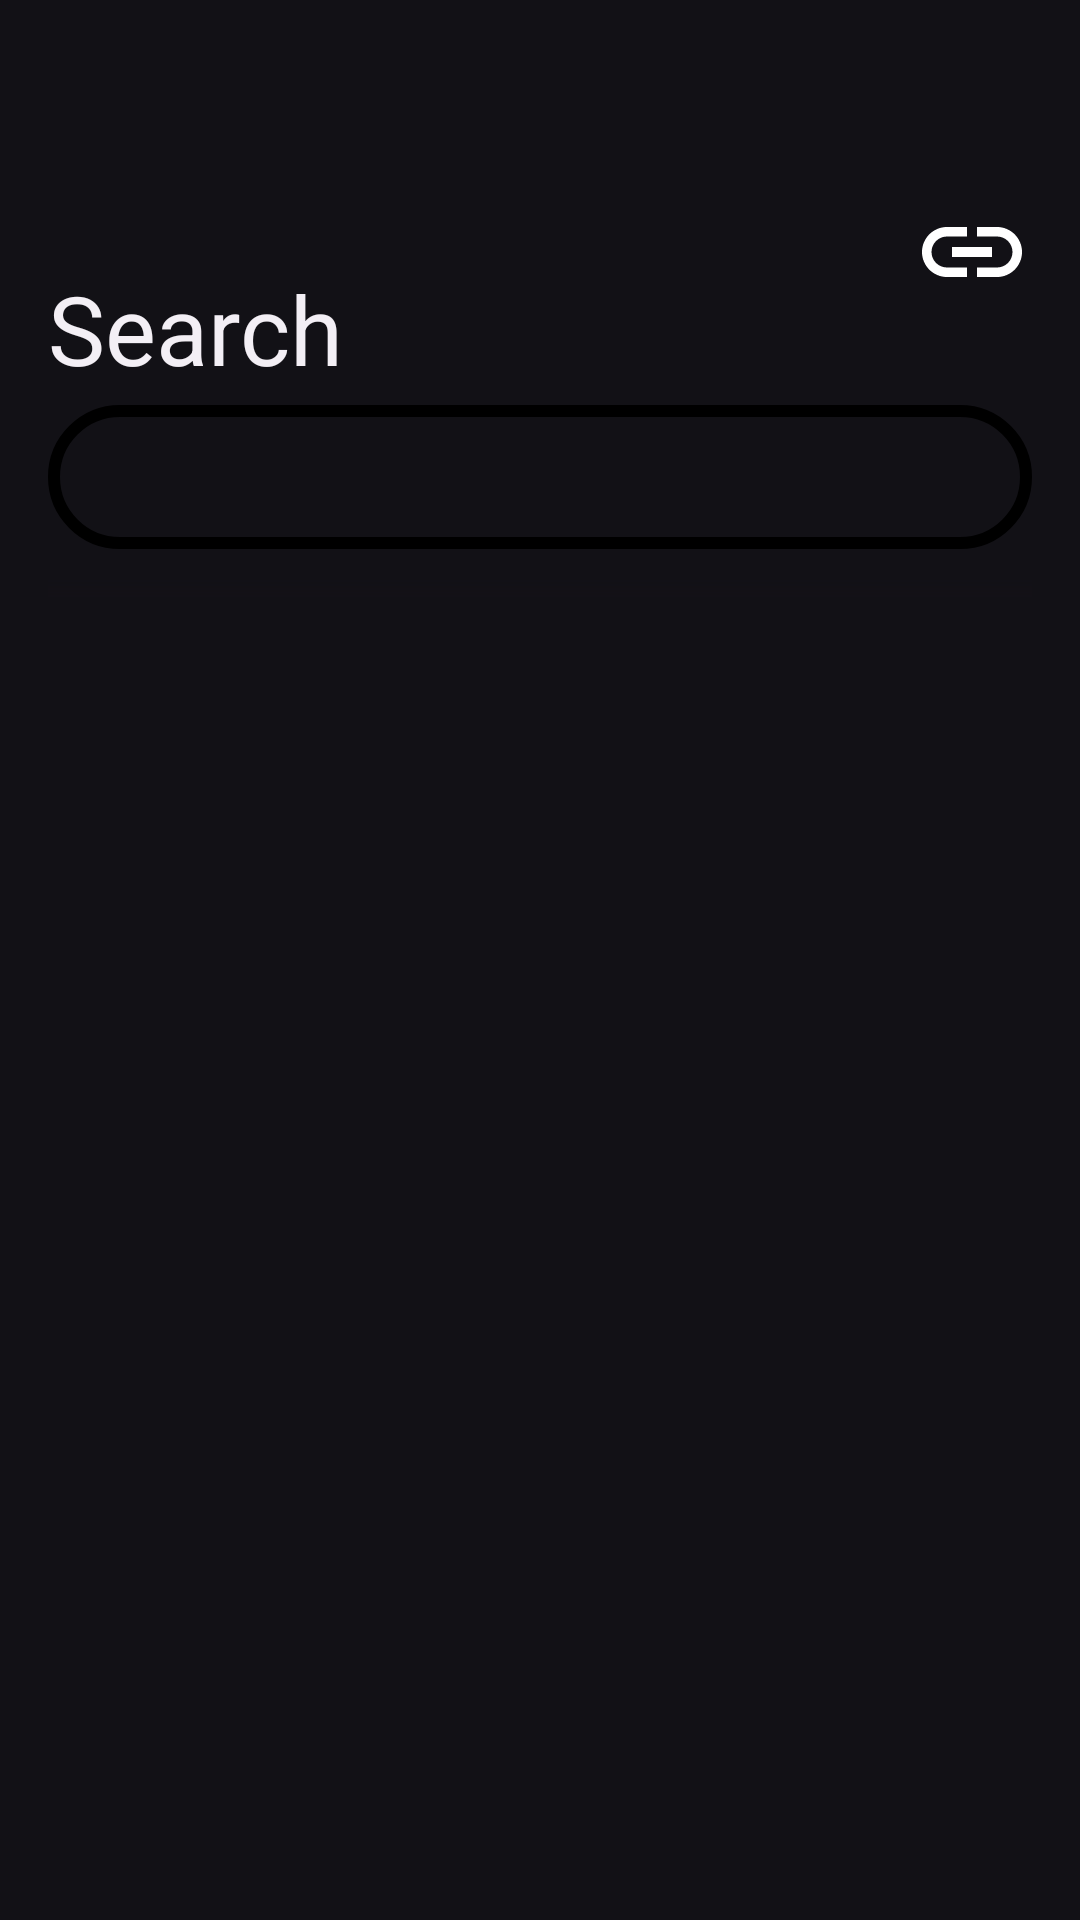

Screen size 1080*1920. Icon name, then its box in pixels as (x1, y1, x2, y2):
Song Link: (922, 227, 1022, 277)
